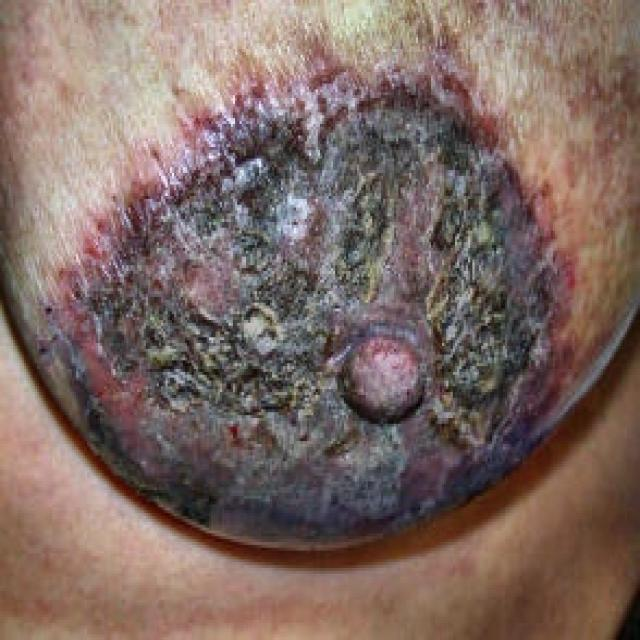Eczema: (54, 56, 580, 539)
